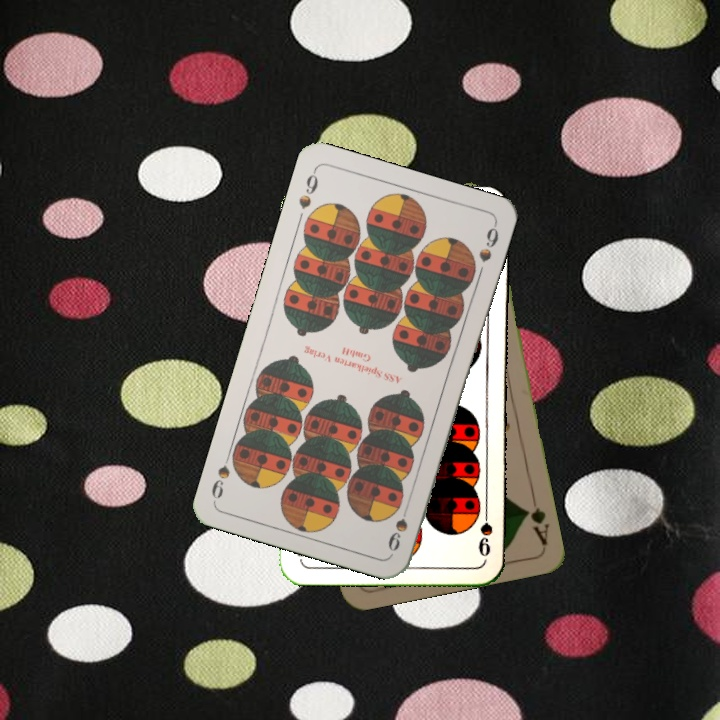GA: (520, 489, 551, 548)
S9: (470, 501, 495, 559), (294, 166, 321, 212), (384, 511, 410, 554)
